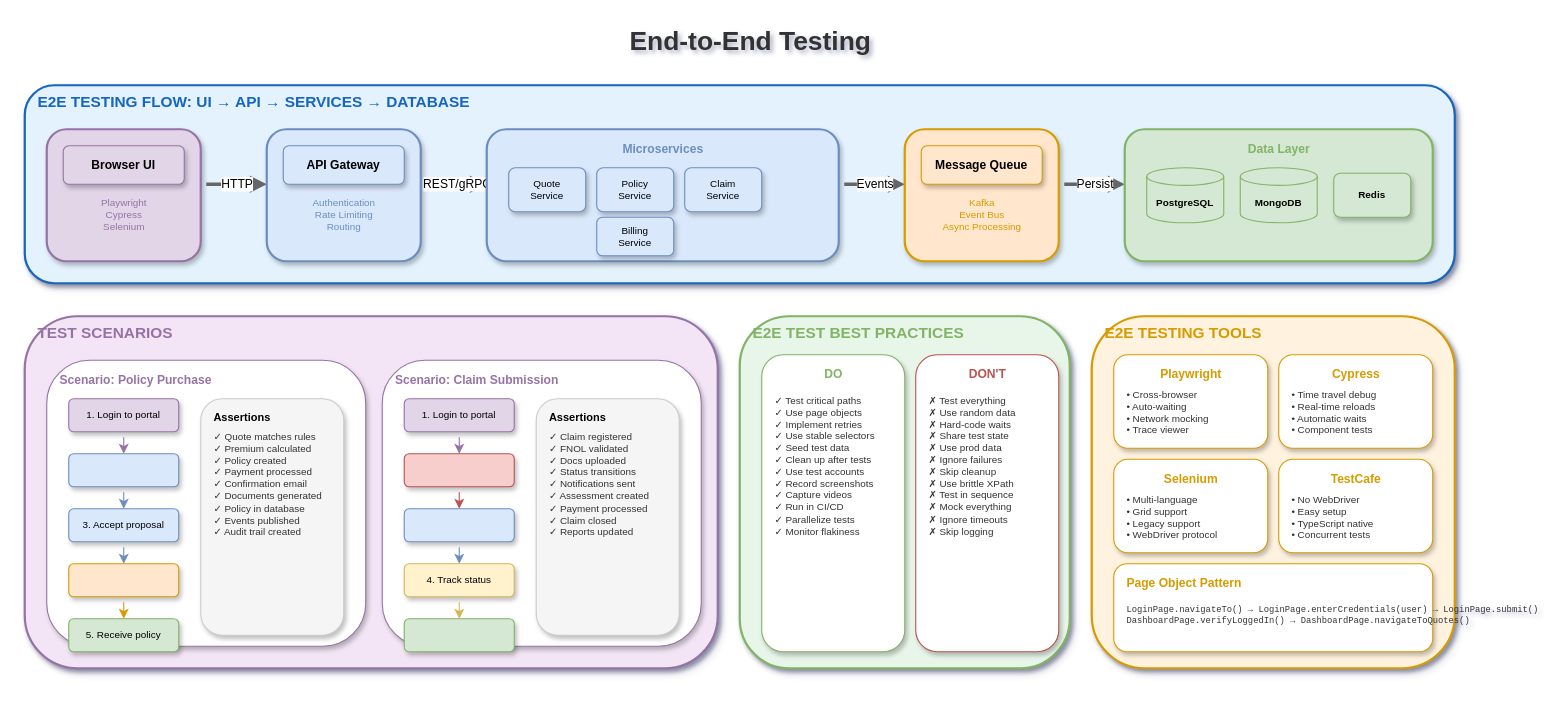
This 1563x702 diagram has some shape labels left out. Each missing label, with the centre of its shape:
"2. Get quote" belongs at point 124,471.
"2. Report FNOL" belongs at point 460,471.
"3. Upload documents" belongs at point 460,526.
"4. Make payment" belongs at point 124,581.
"5. Receive settlement" belongs at point 460,636.
